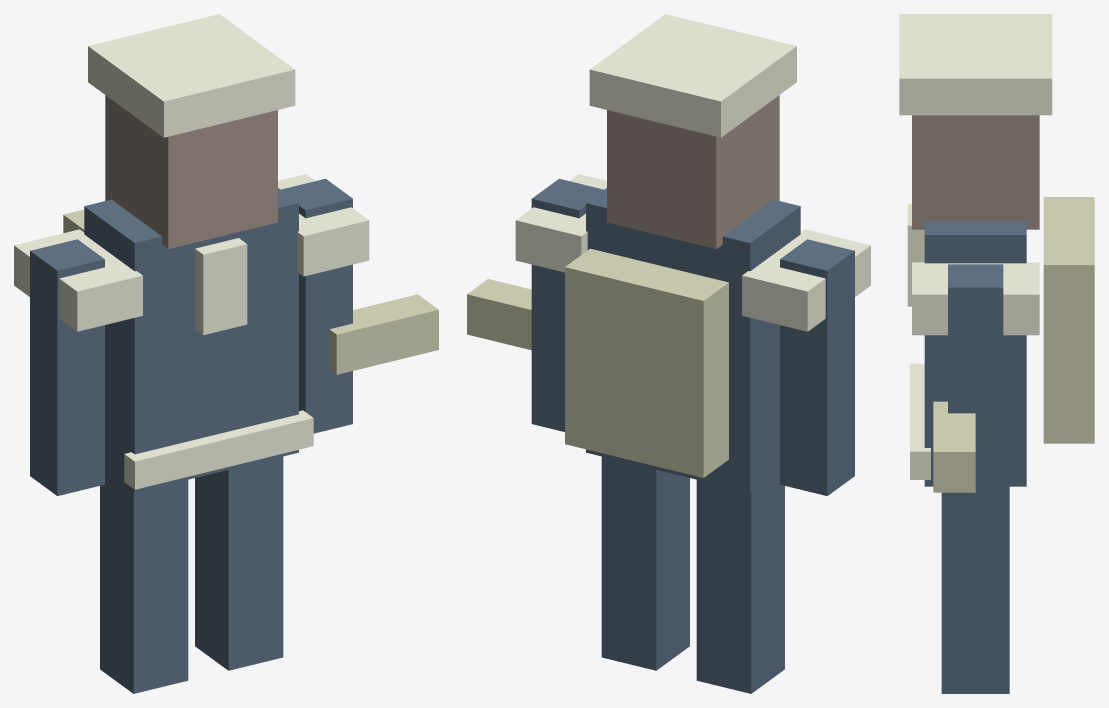
Rendered from 20_noor_runeclasp_navigator_near_emergency.glb.
3 views of the same model, side by side, from view 1: azimuth 30°, elevation 25°; view 2: azimuth 150°, elevation 25°; view 3: azimuth 270°, elevation 25° (orthographic).
Visible parts, largest first — view 1: Noor Runeclasp, Navigator near Emergency; view 2: Noor Runeclasp, Navigator near Emergency; view 3: Noor Runeclasp, Navigator near Emergency.
Boxes of the visible parts, box(x1,y1,x2,y2) form: Noor Runeclasp, Navigator near Emergency: box(14, 14, 438, 693); Noor Runeclasp, Navigator near Emergency: box(467, 14, 870, 693); Noor Runeclasp, Navigator near Emergency: box(899, 14, 1094, 693).
Bounding box in the file's own units: 1.1 × 1.7 × 0.4926.
